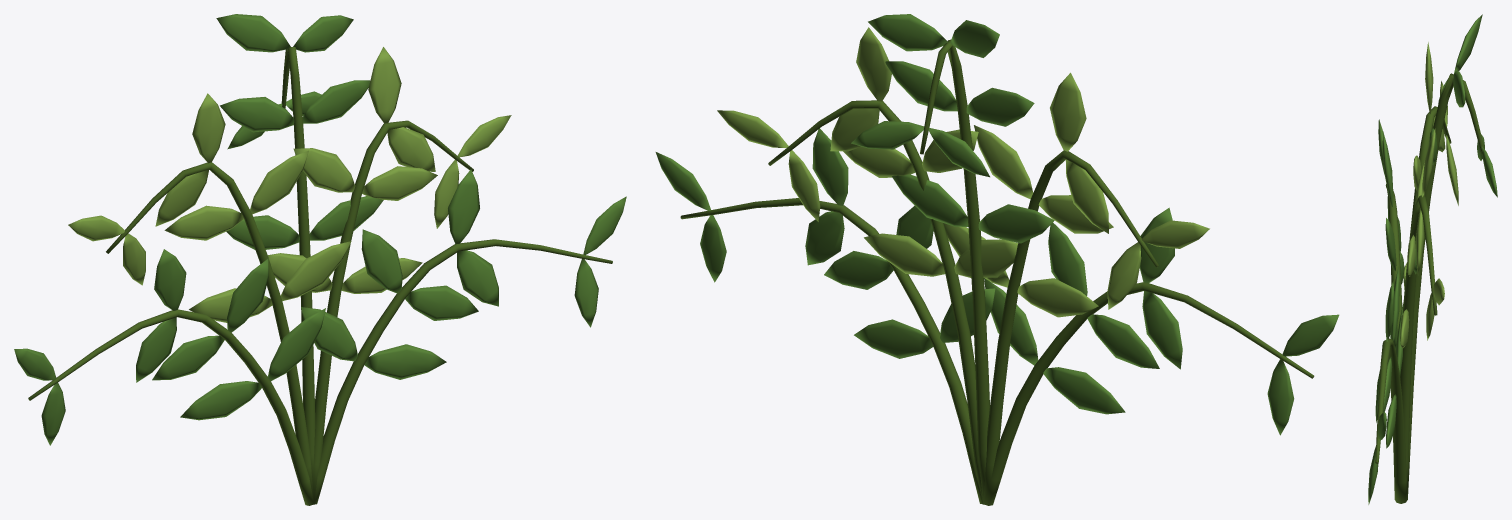
File: forest_fern.glb
The picture shows the model from 3 angles, left to right: view 1: azimuth 30°, elevation 25°; view 2: azimuth 150°, elevation 25°; view 3: azimuth 270°, elevation 25°; orthographic projection. The views are drawn at different scales.
Visible parts, largest first — view 1: NaturalGeometryGeometry; view 2: NaturalGeometryGeometry; view 3: NaturalGeometryGeometry.
Boxes of the visible parts, x1,y1,x2,y2 form: NaturalGeometryGeometry: (14, 14, 626, 505); NaturalGeometryGeometry: (655, 14, 1339, 505); NaturalGeometryGeometry: (1368, 14, 1497, 504).
Bounding box in the file's own units: 2.03 × 1.48 × 0.3743.
